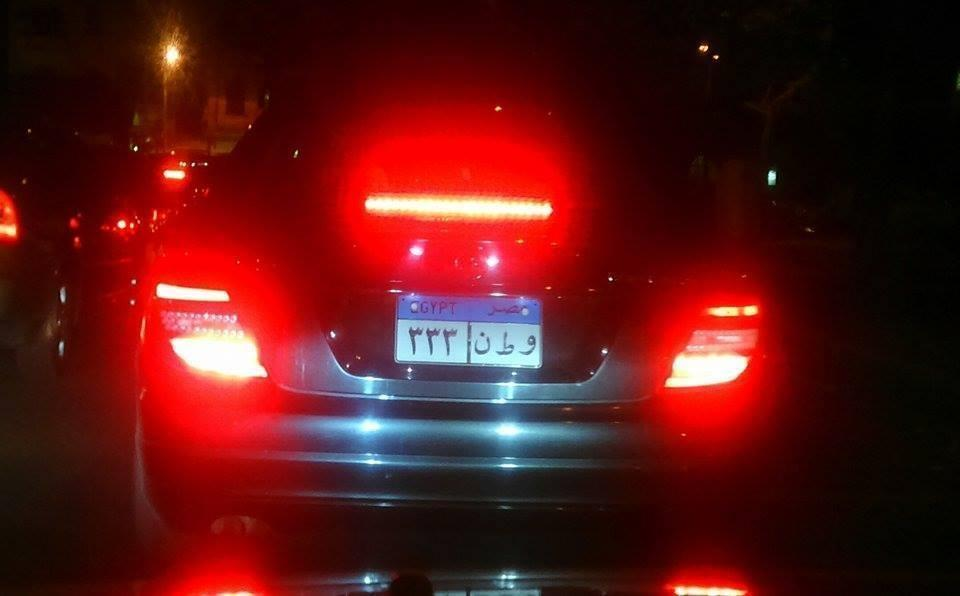3: (407, 323, 424, 357), (424, 325, 441, 358), (442, 325, 459, 357)
License Plate: (391, 292, 545, 371)
Noon: (473, 329, 491, 357)
Taa: (496, 330, 515, 358)
Wow: (518, 332, 537, 360)
